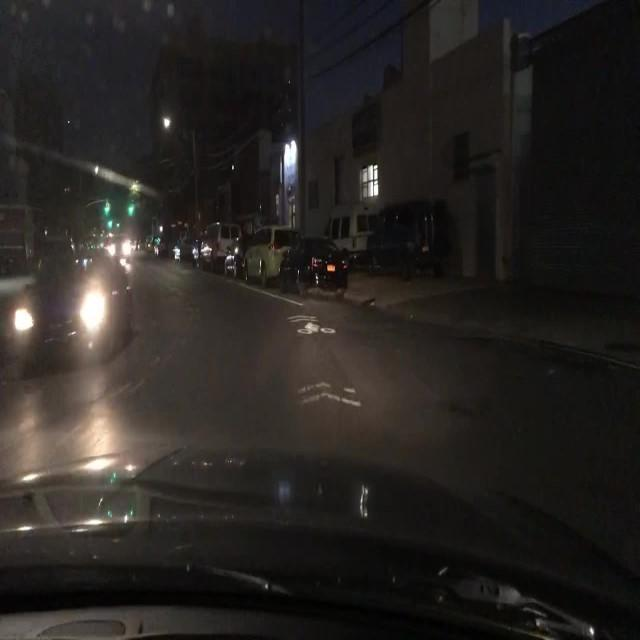multiple_accident: (232, 207, 374, 320)
normal: (3, 214, 150, 405)
